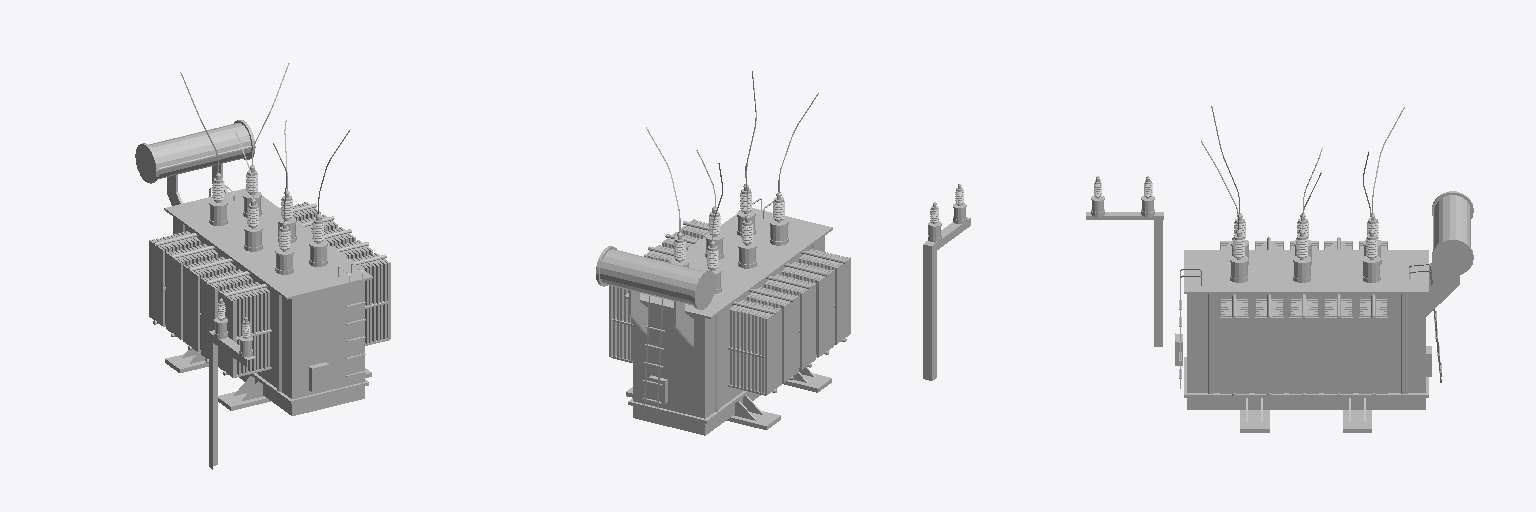
Rendered from 变压器.obj.
3 renders of one model, left to right at view 1: azimuth 30°, elevation 25°; view 2: azimuth 150°, elevation 25°; view 3: azimuth 270°, elevation 25°, orthographic.
Visible parts, largest first — view 1: Box1829, Box1841, Cylinder059, Box2046, Box2072, Box1881, Box2133, Box2098, Box2124, Cylinder060, Box1840, Box1848; view 2: Box1829, Box1841, Cylinder059, Box2133, Box1881, Box2098, Box2046, Box2124, Box2072, Cylinder060, Box1840, Box1847 (+2 smaller); view 3: Box1829, Box1841, Box2059, Box2020, Box2111, Box2033, Box2085, Cylinder059, Cylinder062, Box1840, Box2133, Line053 (+4 smaller).
Boxes of the visible parts, box(x1,y1,x2,y2) form: Box1829: box(173, 217, 364, 415); Box1841: box(164, 188, 372, 299); Cylinder059: box(149, 123, 250, 179); Box2046: box(166, 252, 182, 339); Box2072: box(183, 265, 199, 351); Box1881: box(149, 240, 164, 326); Box2133: box(209, 334, 217, 469); Box2098: box(201, 278, 217, 358); Box2124: box(218, 291, 234, 377); Cylinder060: box(135, 143, 158, 183); Box1840: box(250, 373, 368, 404); Box1848: box(218, 368, 371, 410); Box1829: box(633, 236, 824, 435); Box1841: box(624, 208, 832, 318); Cylinder059: box(600, 249, 701, 305); Box2133: box(923, 245, 936, 380); Box1881: box(765, 308, 781, 394); Box2098: box(817, 270, 833, 356); Box2046: box(782, 295, 798, 382); Box2124: box(835, 257, 850, 344); Box2072: box(800, 283, 815, 369); Cylinder060: box(692, 270, 715, 309); Box1840: box(628, 391, 749, 423); Box1847: box(626, 387, 780, 429); Box1829: box(1187, 294, 1425, 409); Box1841: box(1184, 250, 1428, 293); Box2059: box(1289, 317, 1318, 393); Box2020: box(1220, 317, 1248, 393); Box2111: box(1359, 317, 1387, 393); Box2033: box(1255, 317, 1283, 393); Box2085: box(1324, 317, 1352, 393); Cylinder059: box(1434, 195, 1470, 247); Cylinder062: box(1432, 238, 1473, 275); Box1840: box(1184, 357, 1428, 397); Box2133: box(1154, 216, 1162, 346); Line053: box(1426, 275, 1459, 316).
Size of the model in its own units: 477 by 608 by 750.